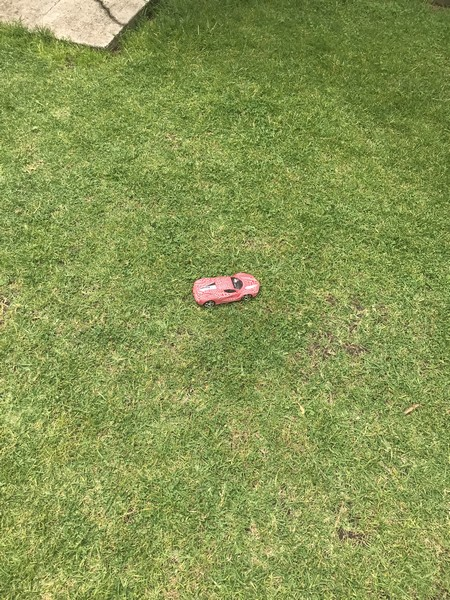RC: (192, 273, 260, 308)
